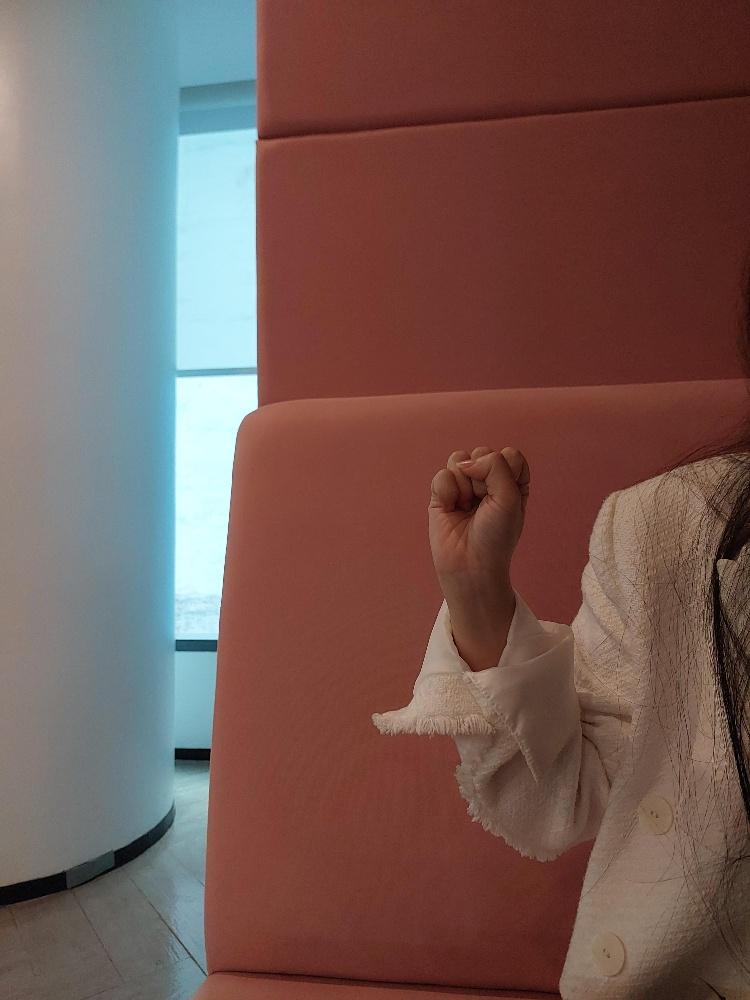s: (426, 443, 531, 574)
